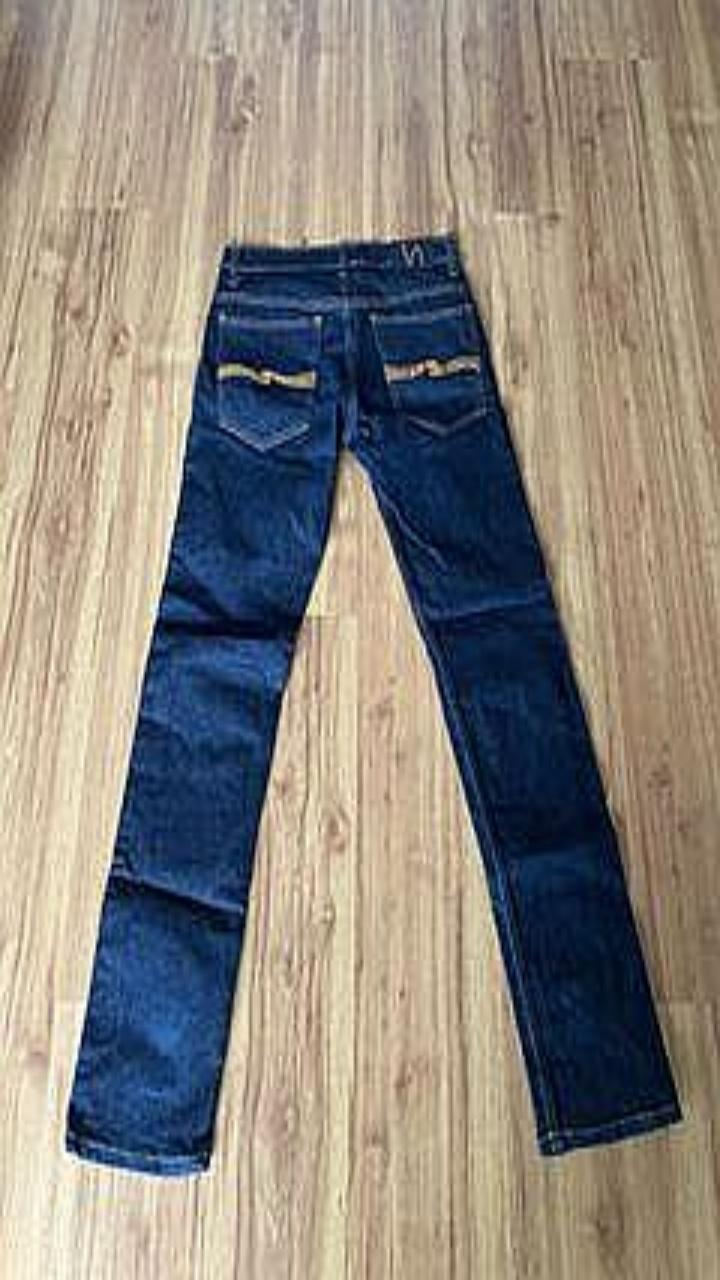Jeans: (66, 232, 680, 1174)
